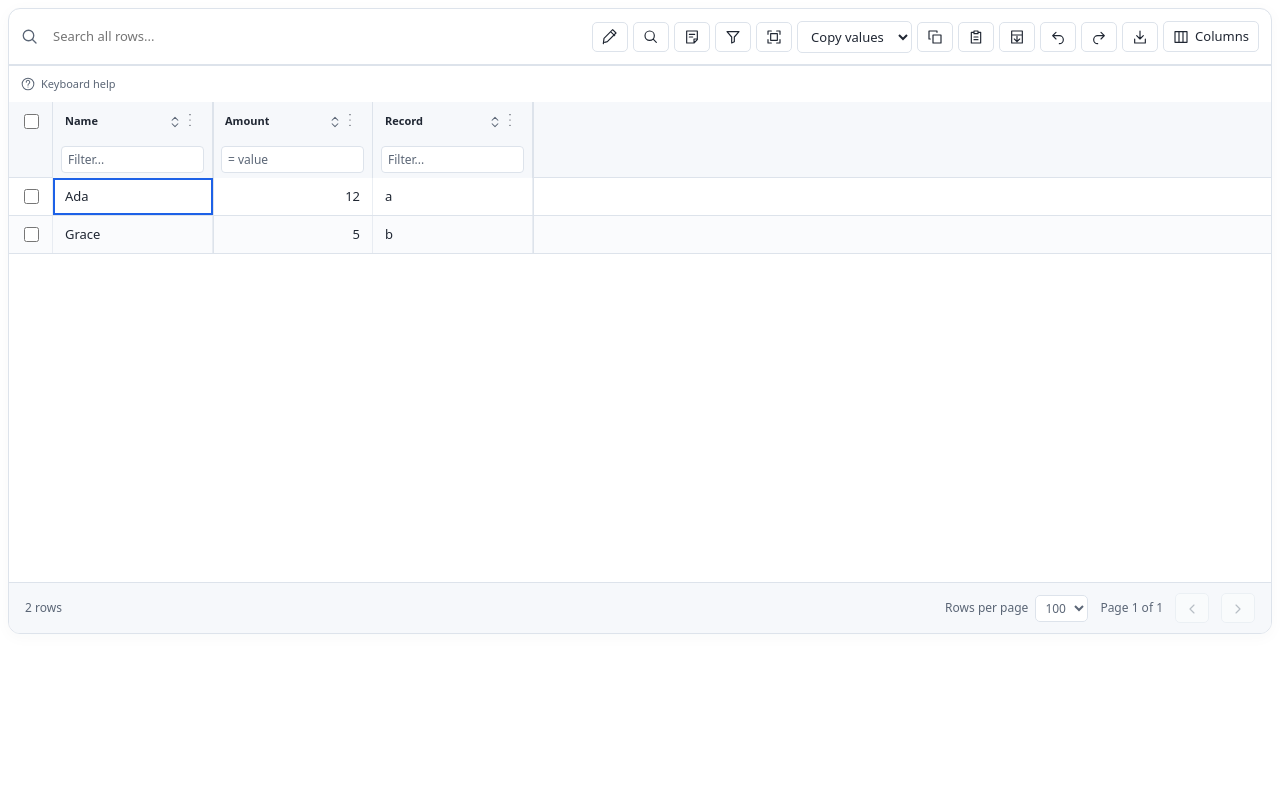
Test: DataGrid contextual commands › opens from keyboard and pointer, toggles real row selection and restores focus without data history
Press F10 in the cell "Ada", box [53,178,213,215]
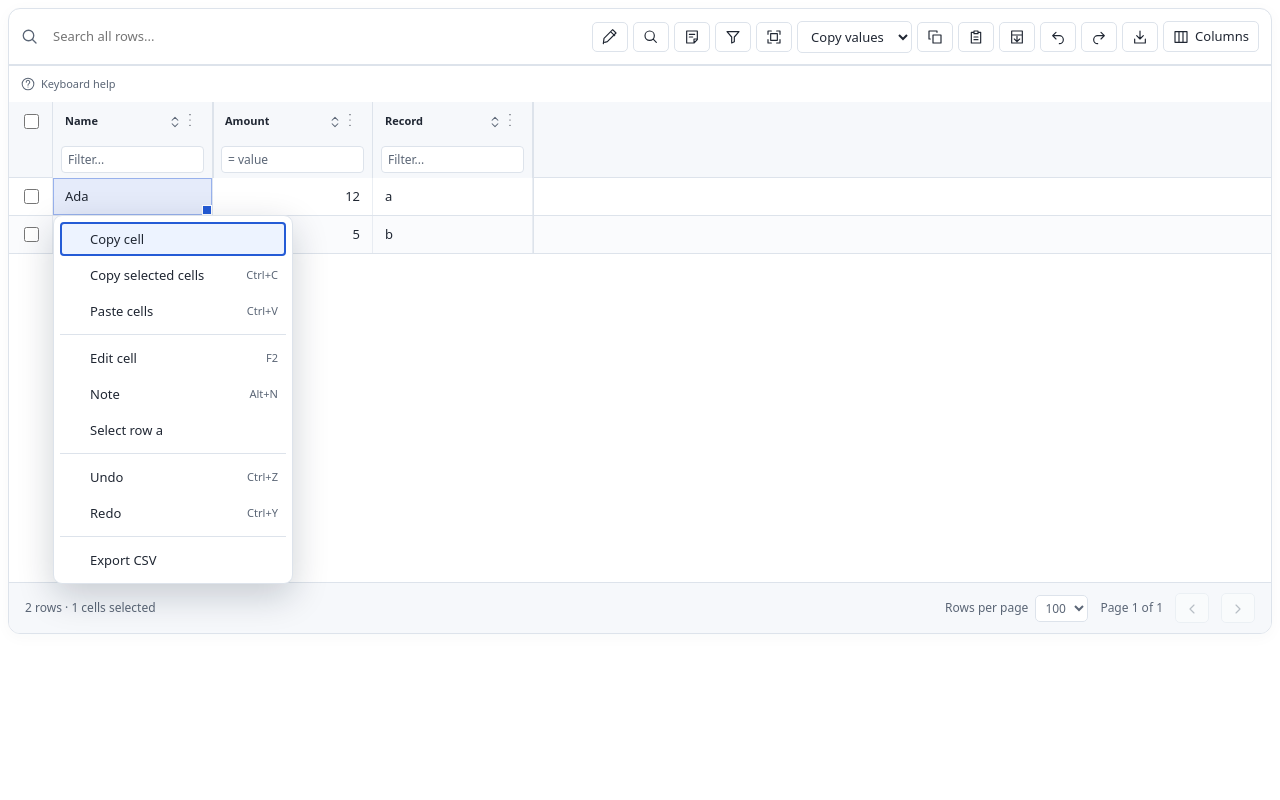
Result: the menu named "Commands for Name, row a" is shown at [60,222,286,577]
Click the menu item "Select row a" at (173,430), box [60,413,286,447]
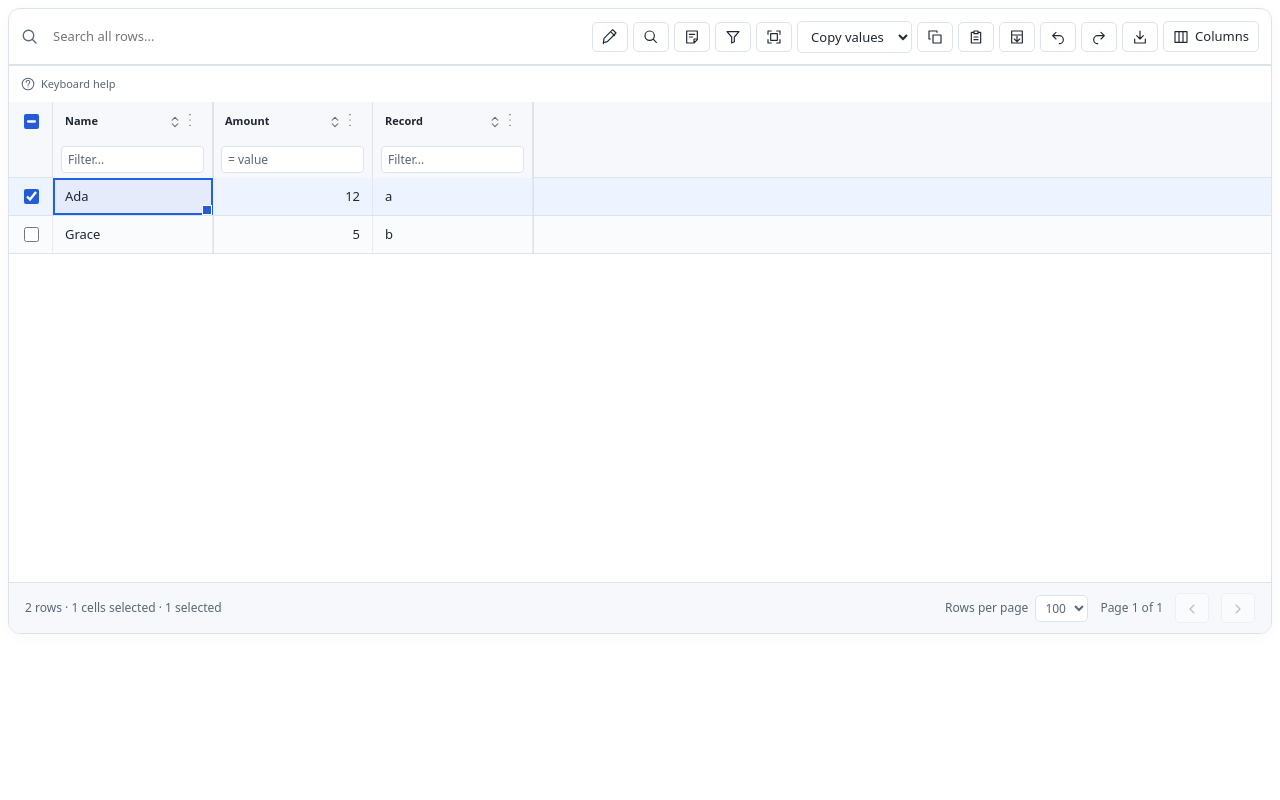
Right-click the cell "Ada" at (133,196), box [53,178,213,215]
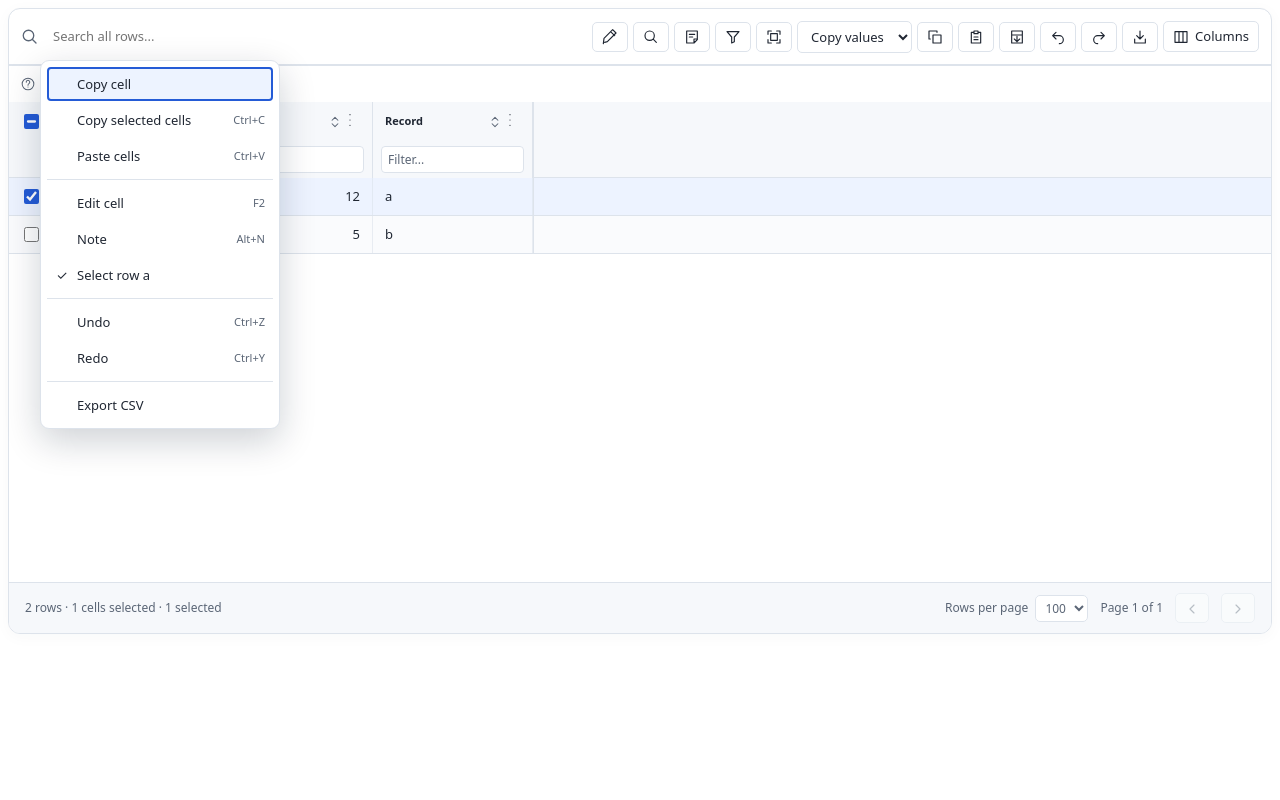
Press Escape in the menu, box [47,67,273,422]
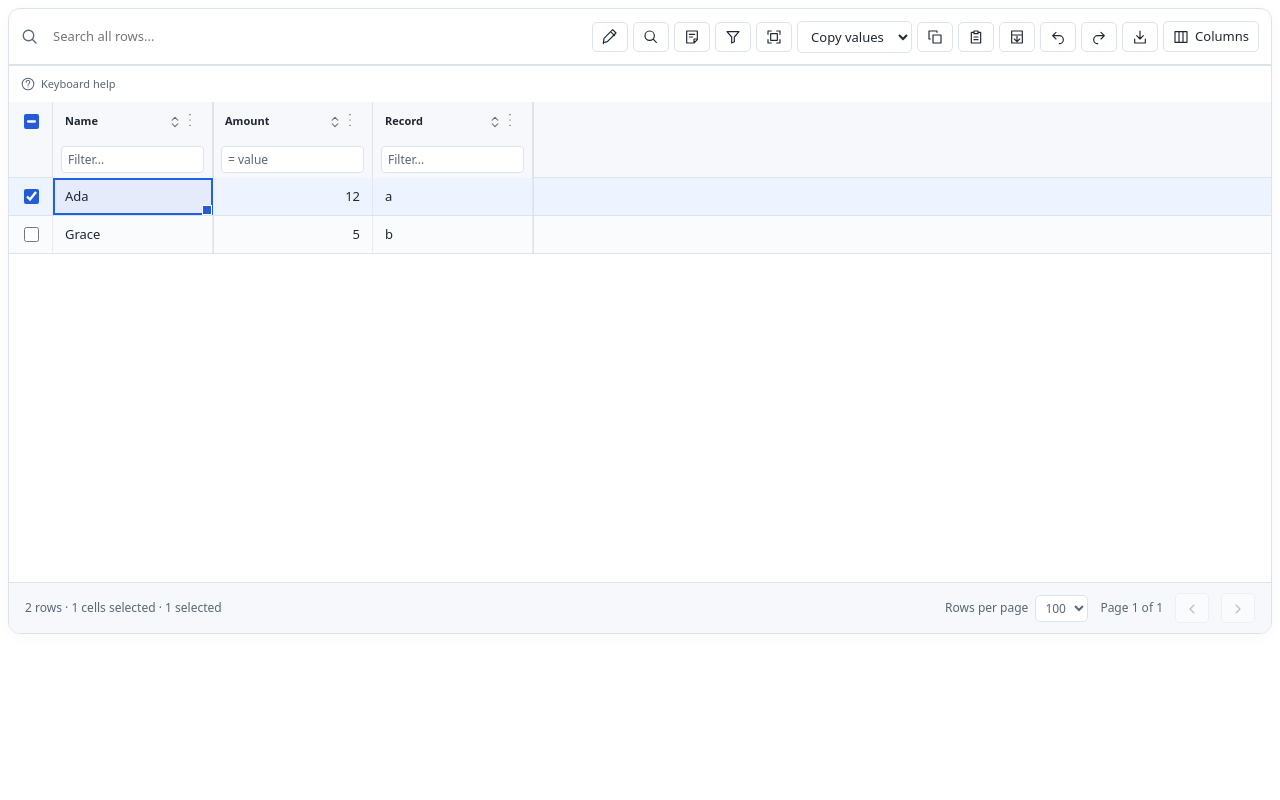
Right-click the cell "Ada" at (133,196), box [53,178,213,215]
Press ContextMenu in the cell "Ada", box [53,178,213,215]
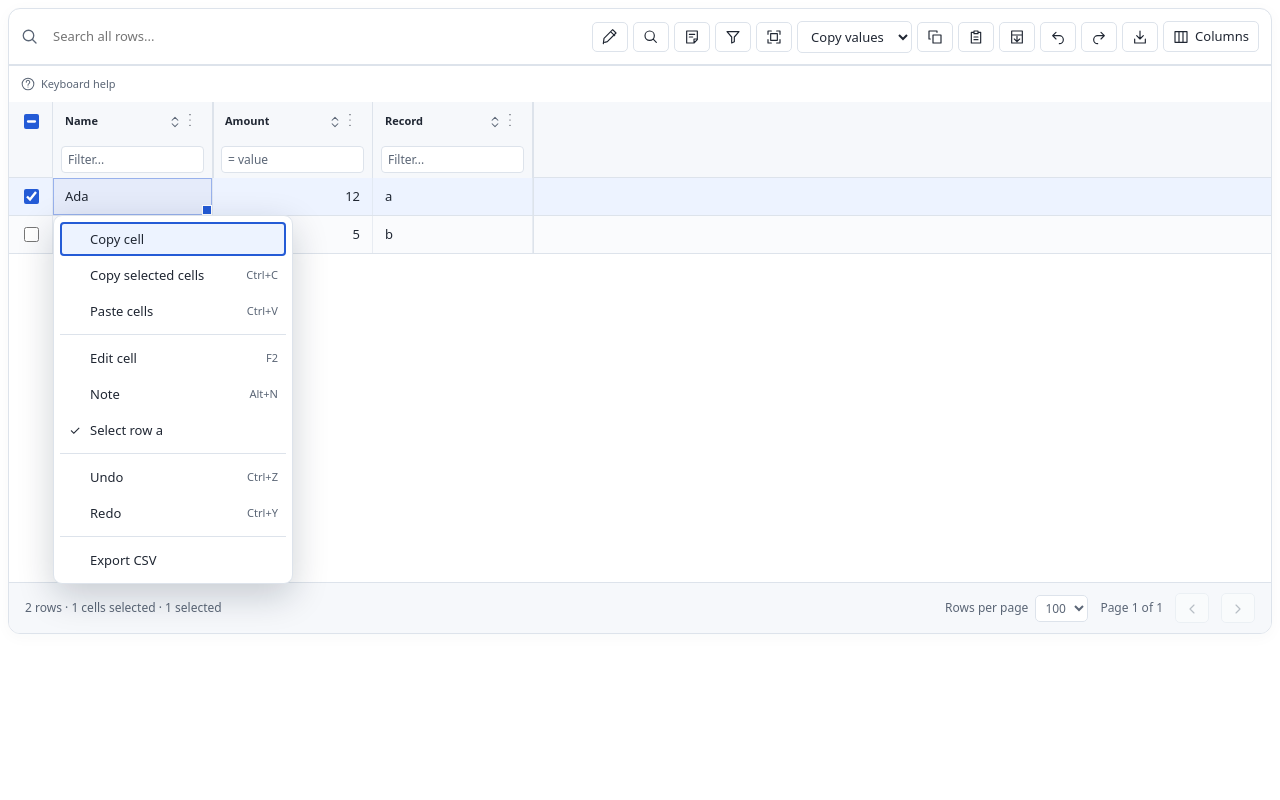
Result: the menu is shown at [60,222,286,577]
